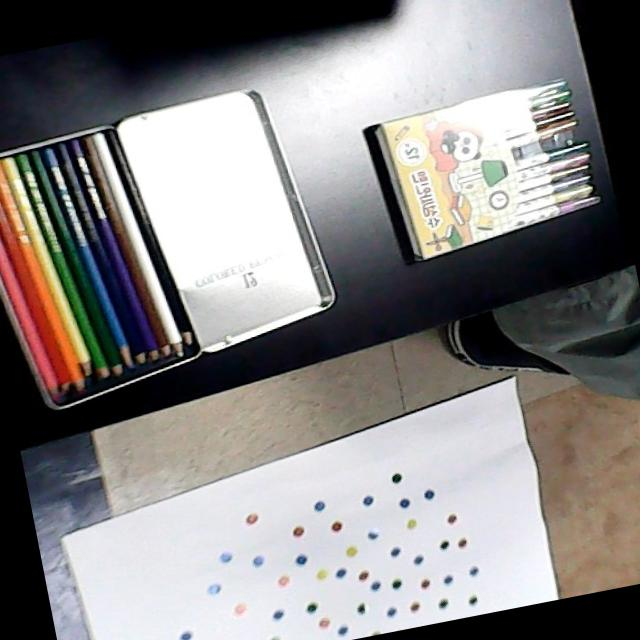color: (0, 110, 211, 417)
signpen: (355, 64, 606, 271)
